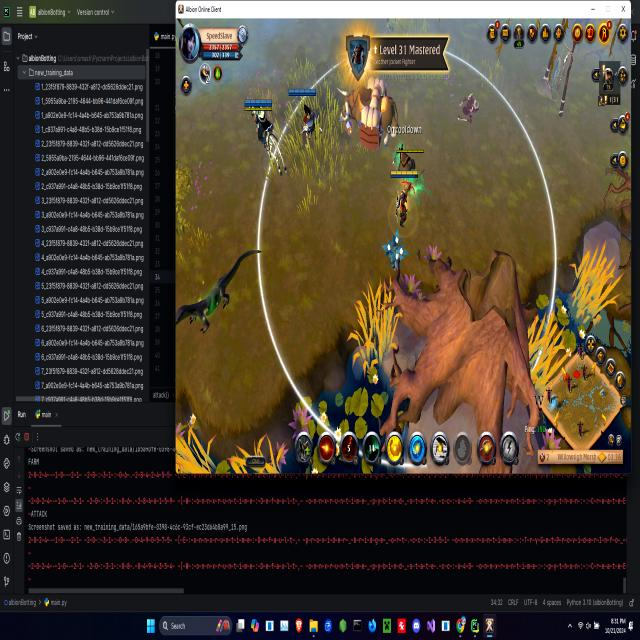hide: (381, 230, 412, 278)
ore: (175, 234, 268, 346)
red: (241, 94, 292, 190), (287, 82, 328, 156), (388, 162, 418, 242)
